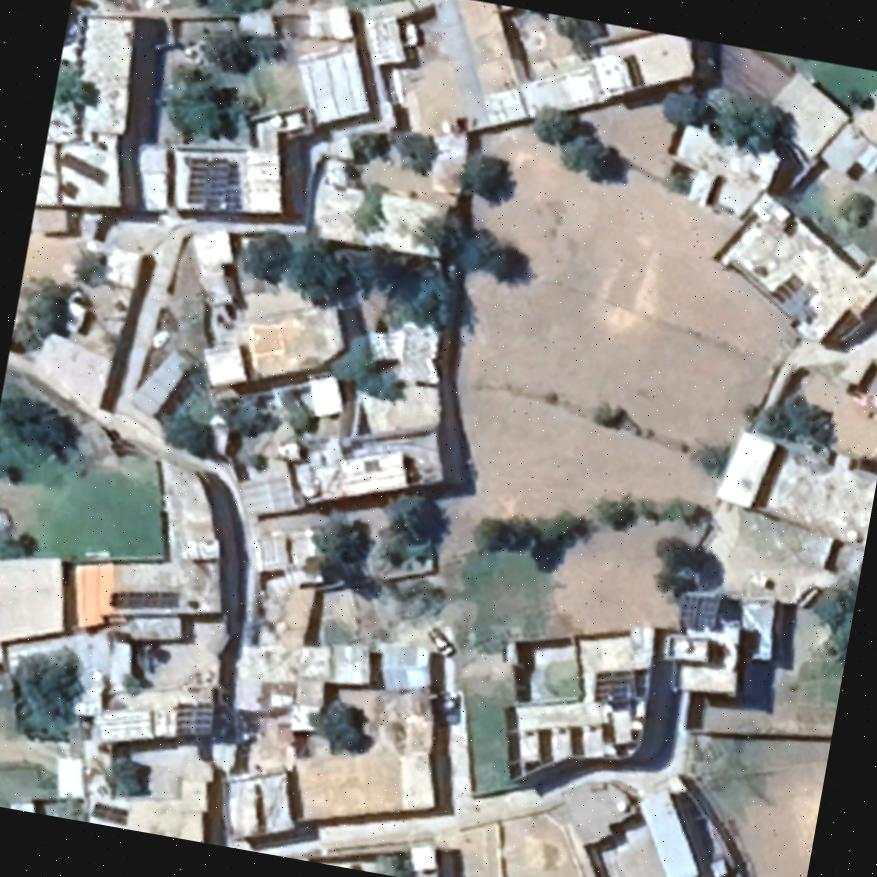Solarpanel: (180, 153, 237, 215), (109, 581, 181, 620), (590, 664, 639, 708), (58, 150, 113, 186), (172, 698, 215, 738), (676, 592, 718, 632), (89, 800, 131, 826), (54, 179, 83, 205)
